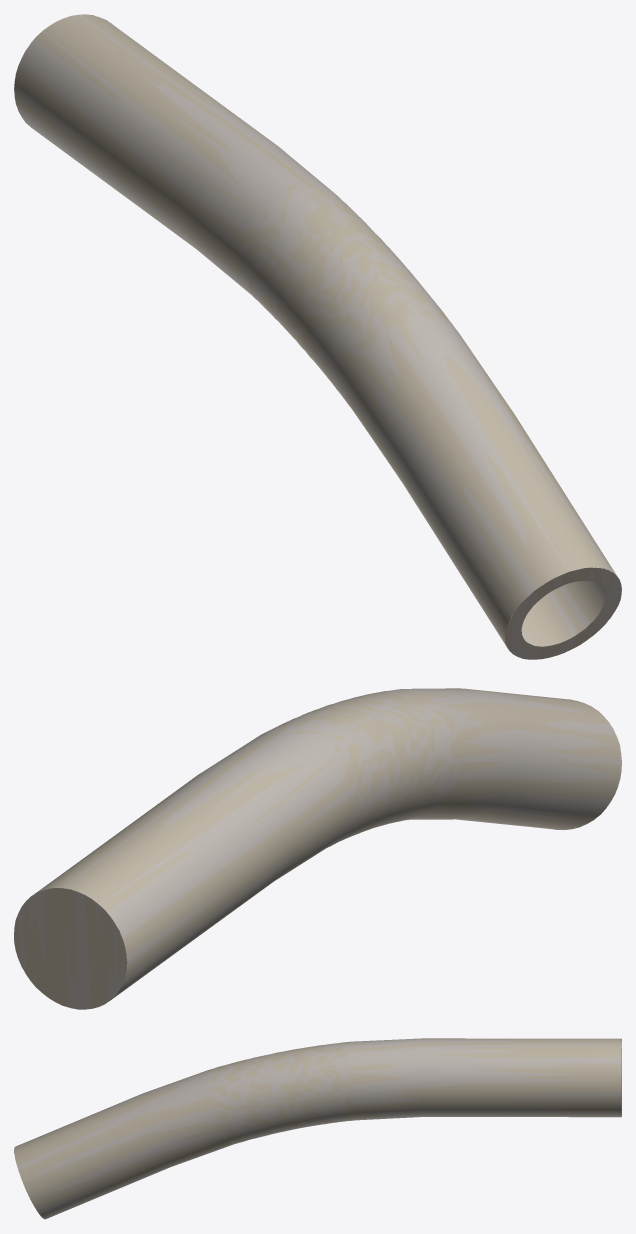
The model's file is original-15.obj.
The picture shows the model from 3 angles, top to bottom: view 1: azimuth 30°, elevation 25°; view 2: azimuth 150°, elevation 25°; view 3: azimuth 270°, elevation 25°; orthographic projection. The views are drawn at different scales.
Visible parts, largest first — view 1: #ID323; view 2: #ID323; view 3: #ID323.
Boxes of the visible parts, x1,y1,x2,y2 form: #ID323: [14, 14, 621, 659]; #ID323: [14, 688, 621, 1009]; #ID323: [14, 1038, 621, 1219].
Size of the model in its own units: 0.0493 by 0.1187 by 0.3763.
2 materials, 1 textured.
